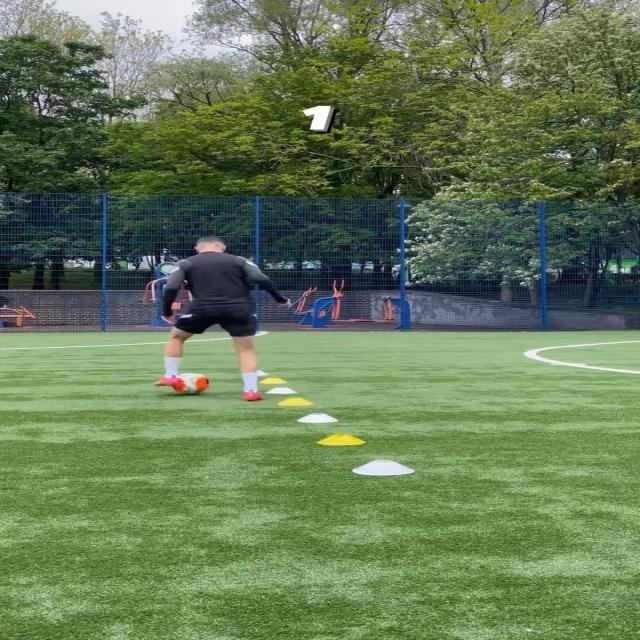Soccer Ball: (171, 372, 208, 394)
